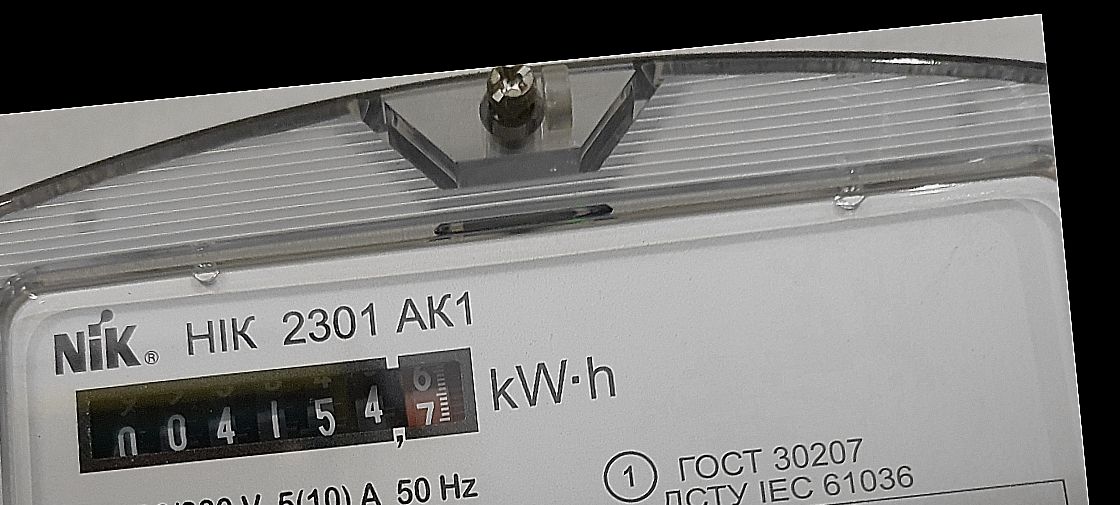0: (162, 409, 189, 452), (113, 420, 139, 456)
1: (266, 397, 283, 439)
4: (211, 402, 238, 446), (359, 379, 384, 425)
5: (311, 391, 339, 437)
6: (409, 360, 434, 392)
7: (413, 396, 436, 427)
screen: (54, 331, 497, 487)
